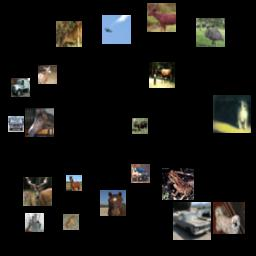airplane: (102, 15, 131, 44)
automobile: (173, 202, 211, 240), (131, 164, 150, 183)
bird: (196, 18, 225, 47)
cat: (213, 95, 251, 133)
deer: (147, 3, 176, 32), (23, 177, 52, 206), (149, 62, 175, 88), (56, 21, 82, 47), (38, 65, 57, 84), (132, 118, 148, 134)
dog: (213, 202, 245, 234)
frog: (162, 168, 194, 200), (63, 214, 79, 230)
ship: (25, 213, 44, 232)
truck: (11, 78, 30, 97), (8, 116, 24, 132)
